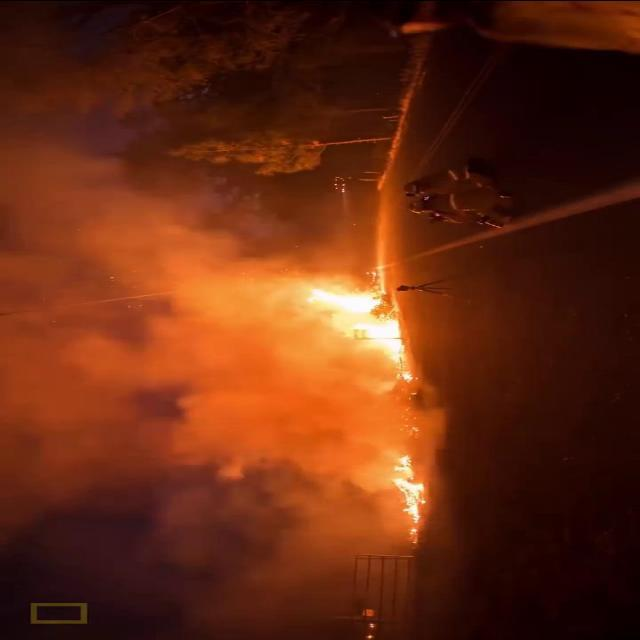Fire: (308, 286, 418, 382), (390, 454, 432, 518), (407, 527, 419, 544)
